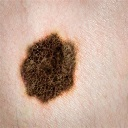Melanoma: (22, 34, 76, 97)
